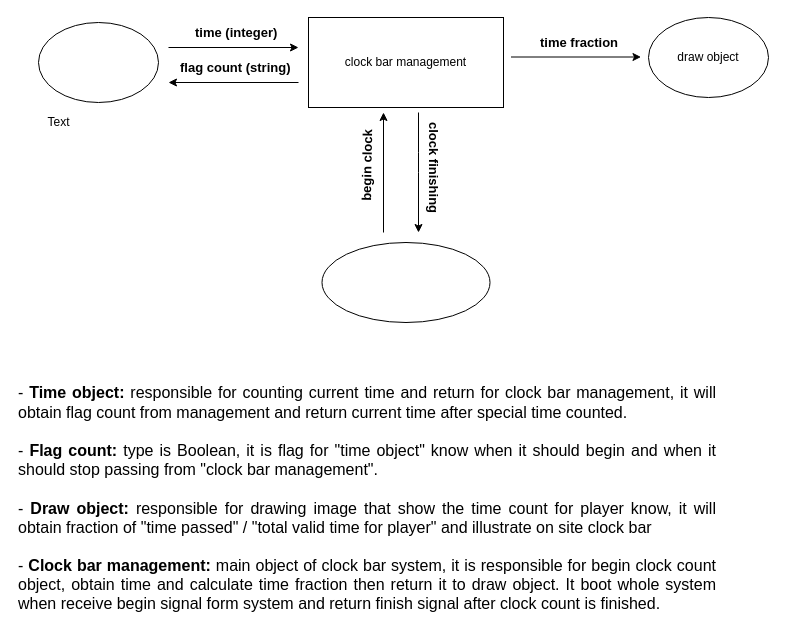
The diagram is 786 pixels wide and 630 high, and some of its shapes have lost their labels. Each missing label, with the centre of its shape:
system: the point at 405,282
time object: the point at 98,62
